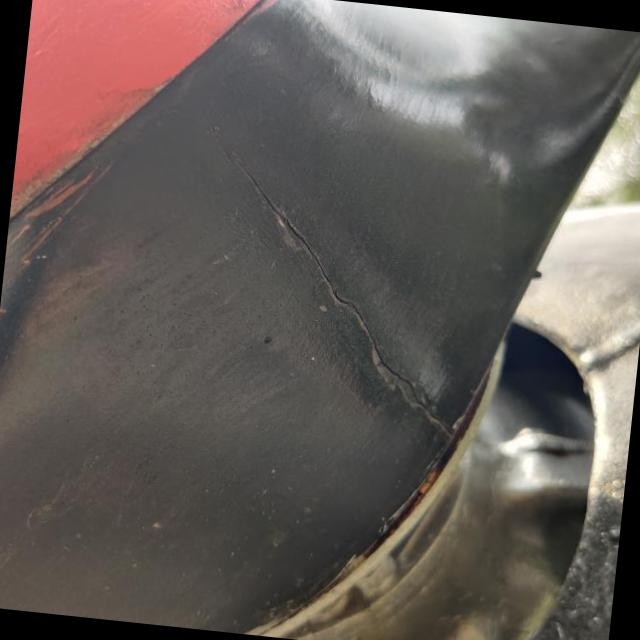Crack: (224, 161, 457, 442)
